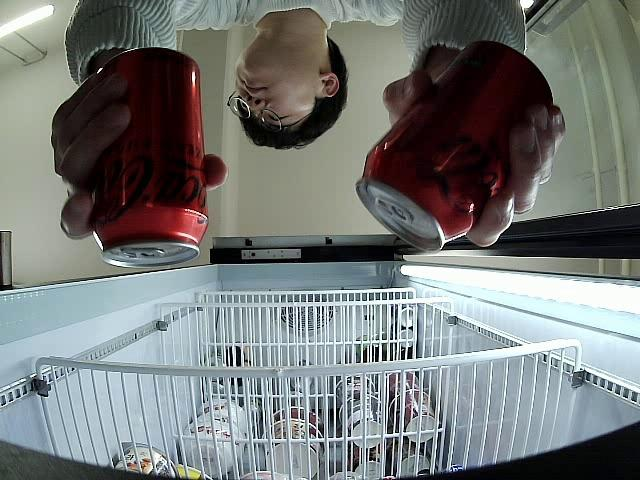00_hand: (382, 65, 567, 249), (49, 63, 229, 238)
11_cocaColaZero: (355, 42, 556, 254), (95, 46, 209, 272)
